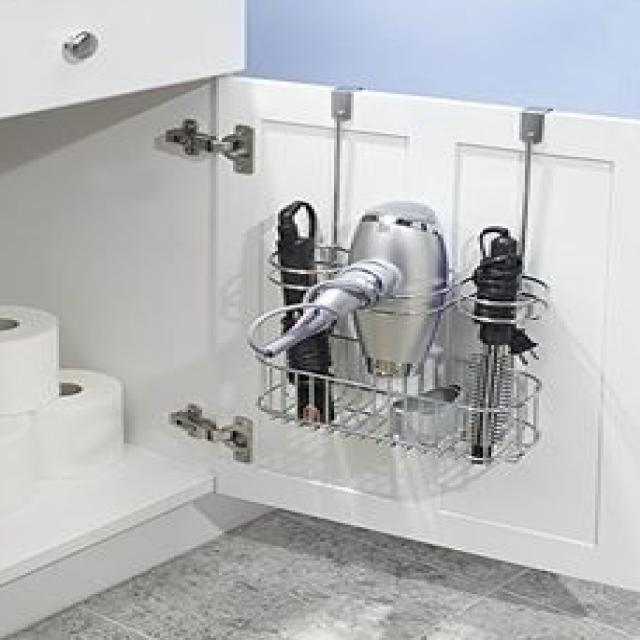dryer: (245, 186, 458, 384)
